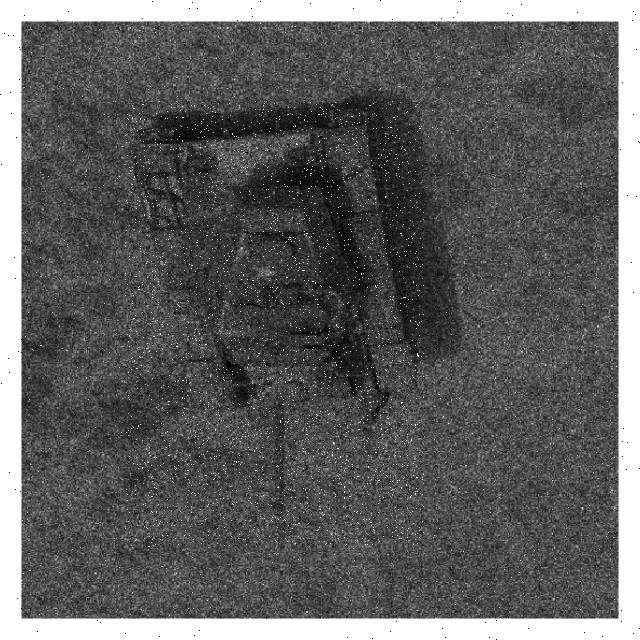MIL_MBT: (125, 101, 424, 547)
